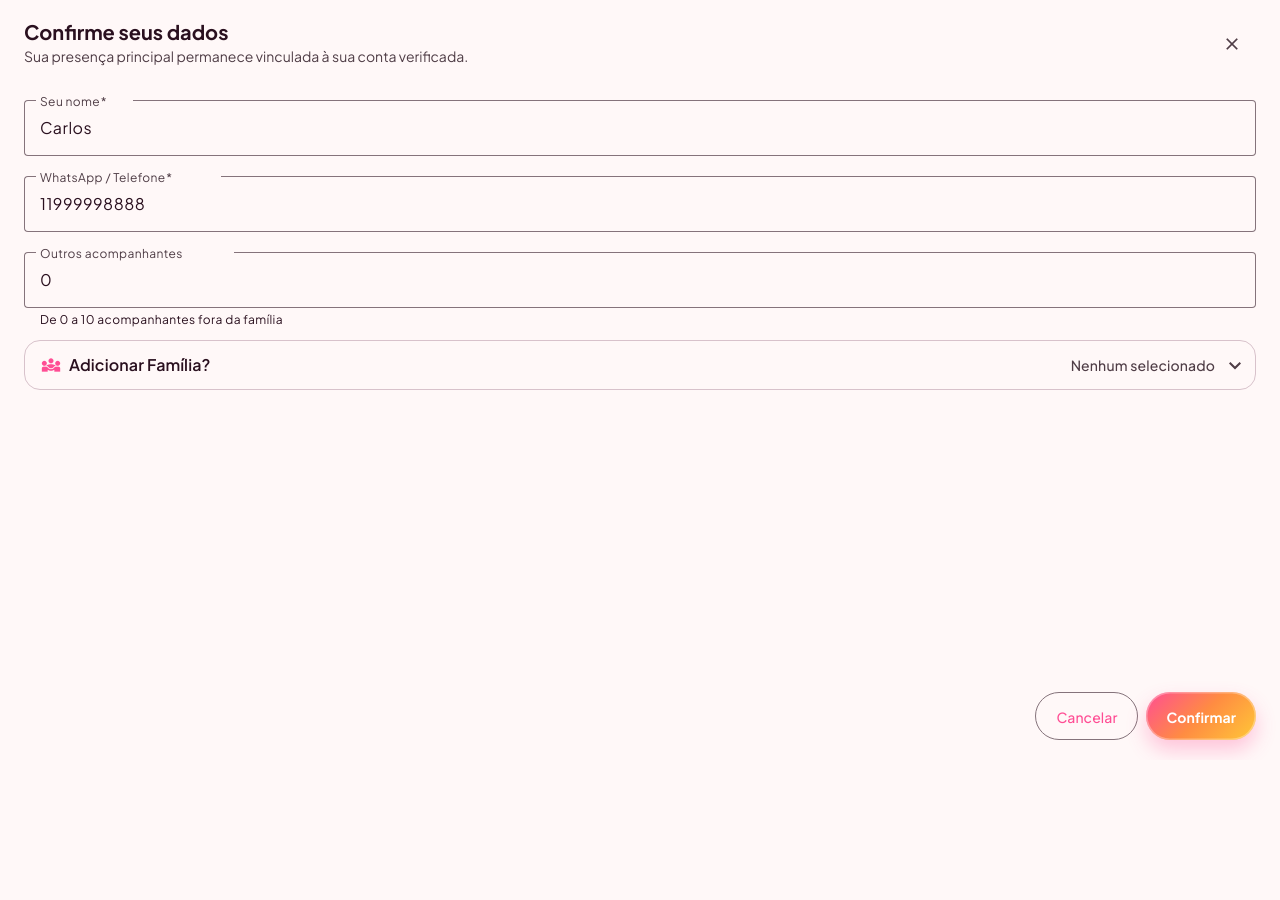
Test: RsvpDrawerComponent › reveals exactly the requested ordered companion fields with accessible labels
This screenshot has width=1280, height=900.
Replace the text in the number field with test id "rsvp-companions-input" with "3". click: [640, 280]
box: [40, 268, 1240, 292]
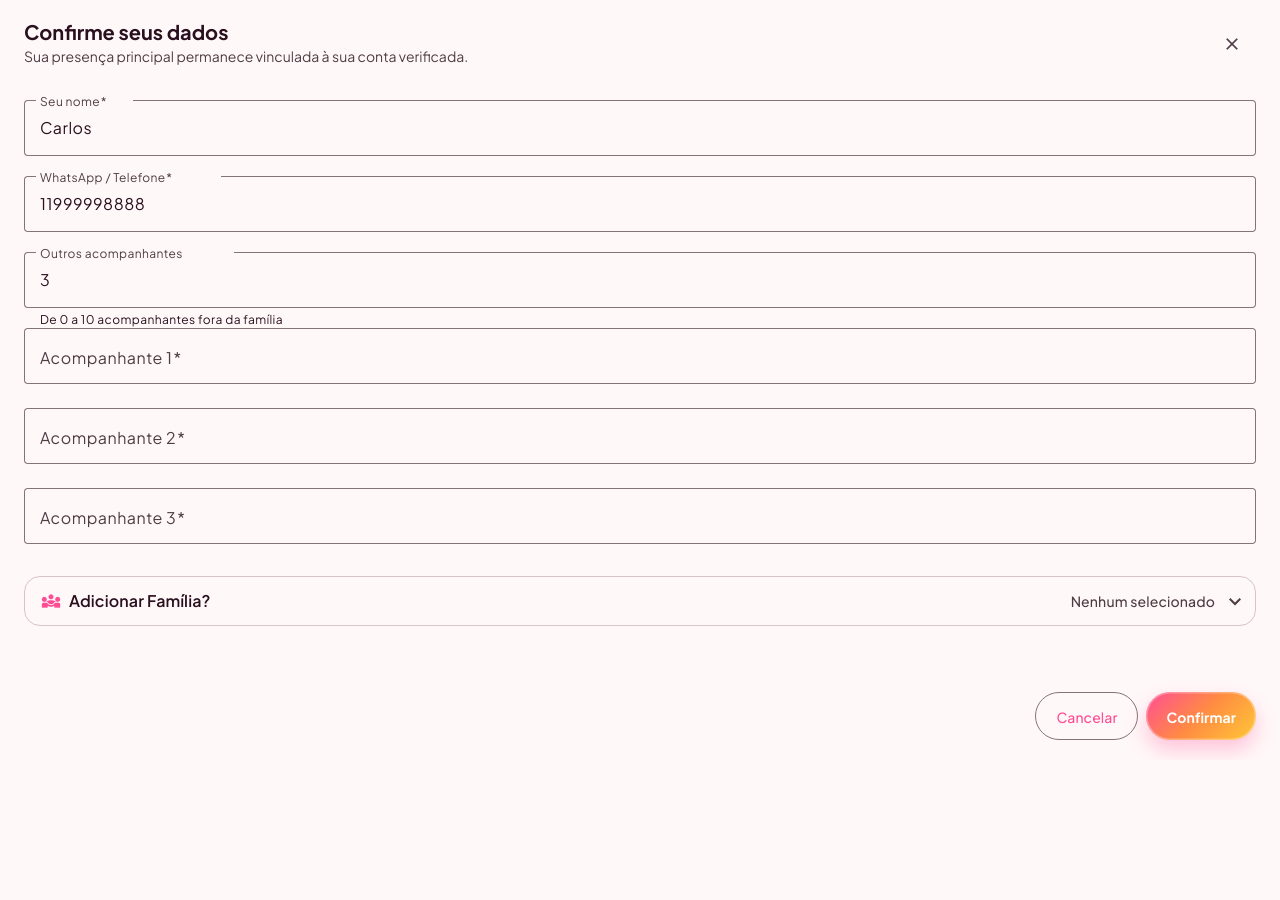
Expected: the text "Acompanhante 1" is shown, [40, 346, 172, 368]
Expected: the text "Acompanhante 3" is shown, [40, 506, 176, 528]
